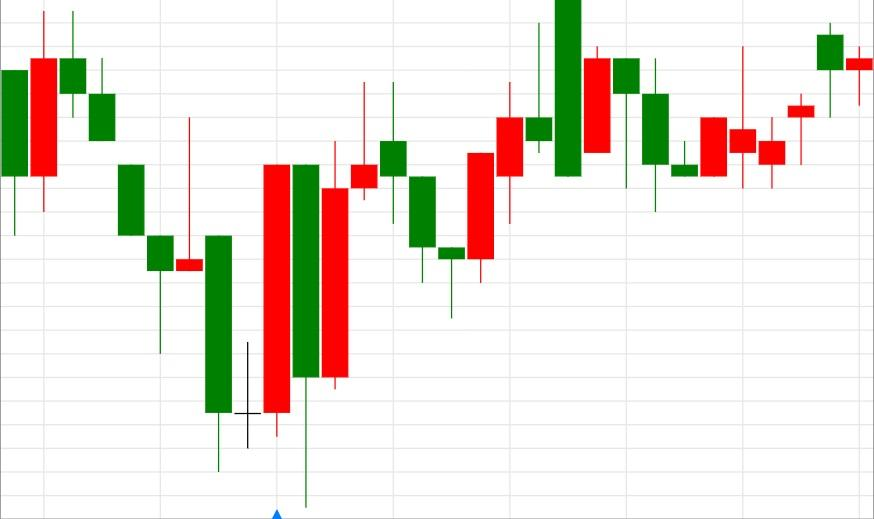bullish_engulfing_rise: (554, 0, 728, 212)
morning_star_rise: (59, 11, 291, 472)
three_black_crows_fall: (0, 11, 144, 236)
